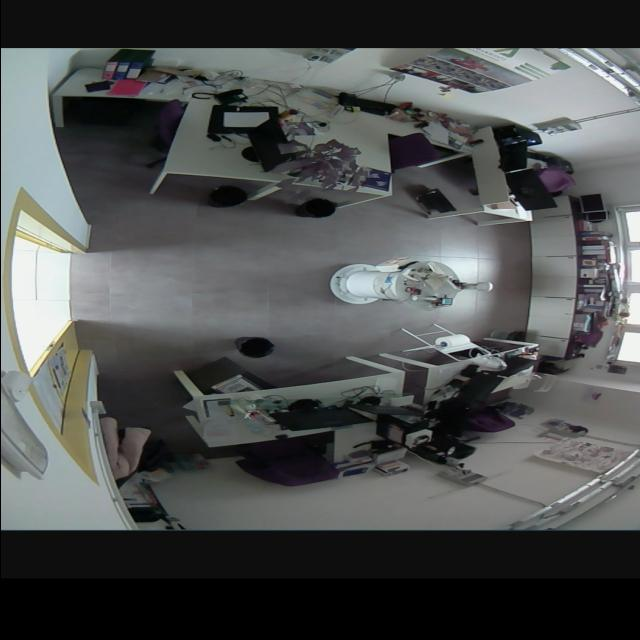Open: (16, 252, 80, 354)
